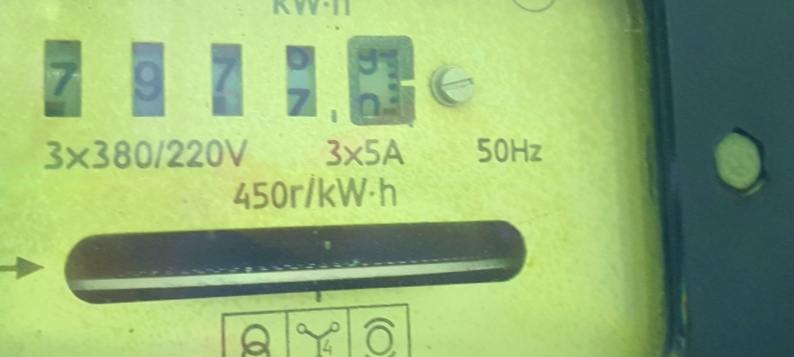0: (357, 88, 381, 119)
7: (45, 56, 80, 102), (284, 79, 315, 121), (210, 53, 240, 95)
9: (131, 57, 164, 105), (354, 45, 385, 78)
screen: (28, 11, 433, 155)
